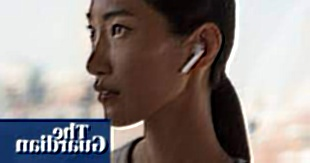earphone: (181, 23, 223, 75)
